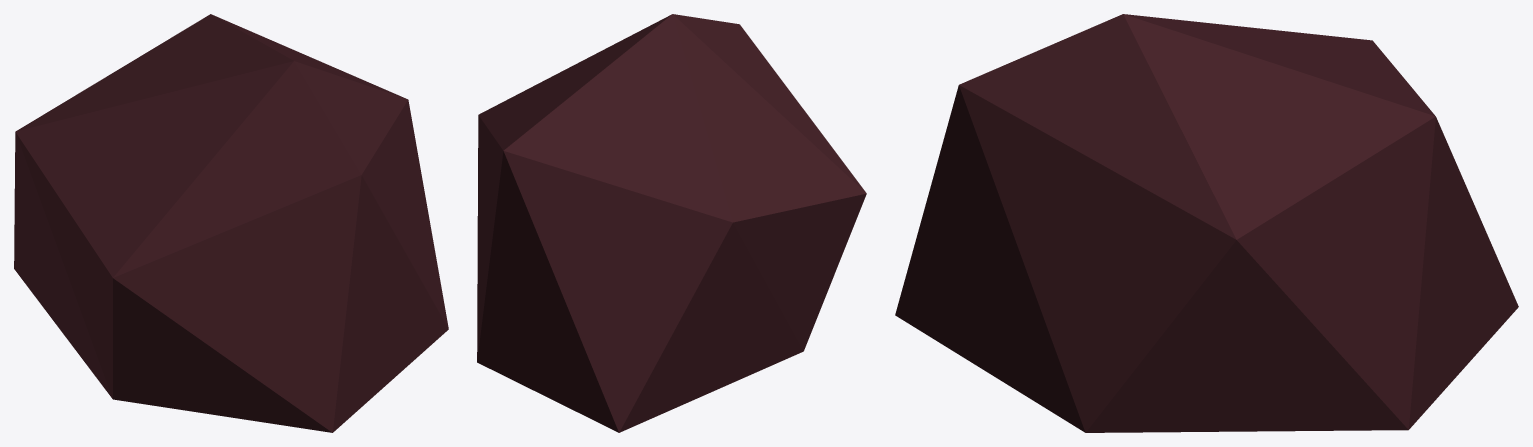
Rendered from Rock2.fbx.
3 views of the same model, side by side, from view 1: azimuth 30°, elevation 25°; view 2: azimuth 150°, elevation 25°; view 3: azimuth 270°, elevation 25° (orthographic). The views are drawn at different scales.
Parts seen in each view (by area): view 1: Rock; view 2: Rock; view 3: Rock.
Part boxes in pixels (box(x1,y1,x2,y2)): Rock: box(14, 14, 448, 432); Rock: box(477, 14, 866, 432); Rock: box(895, 14, 1518, 432).
Bounding box in the file's own units: 48.48 × 40.42 × 62.37.
